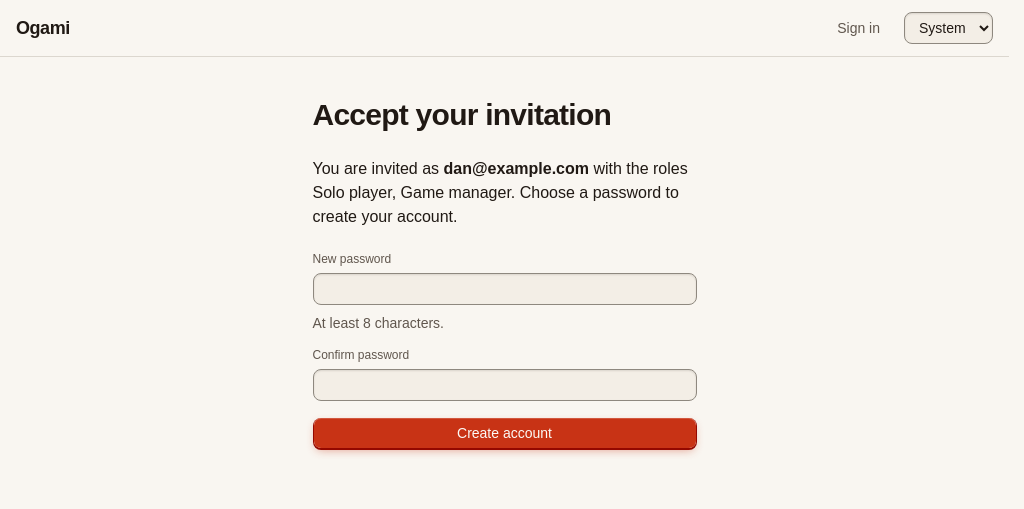
Test case: AcceptInvitationPage › shows the API message for a weak password and creates no session
Expected: the heading "Accept your invitation" is shown, [312,98,611,131]
Type "short" into the password field labelled "New password".
click(504, 289); type("short")  # box [312,273,696,305]
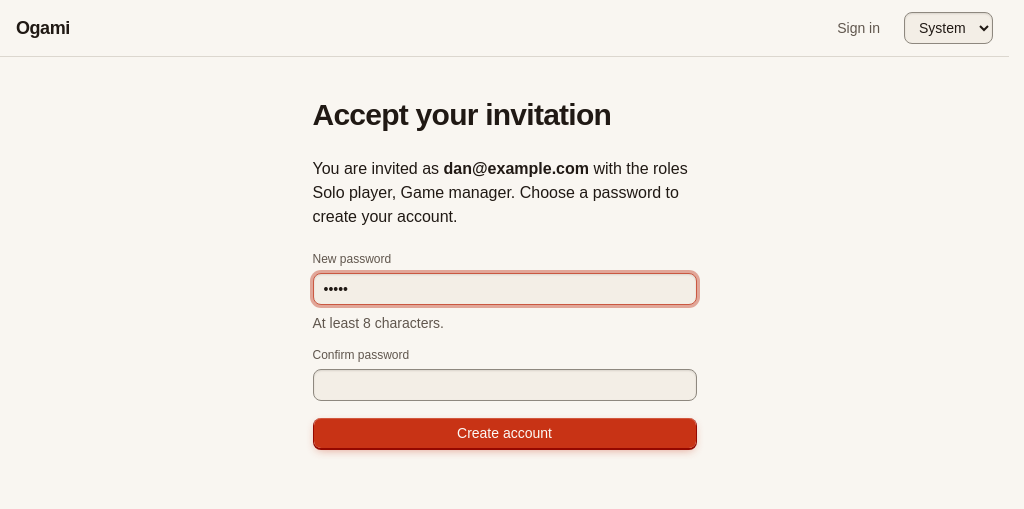
Type "short" into the password field labelled "Confirm password".
click(504, 385); type("short")  # box [312,369,696,401]
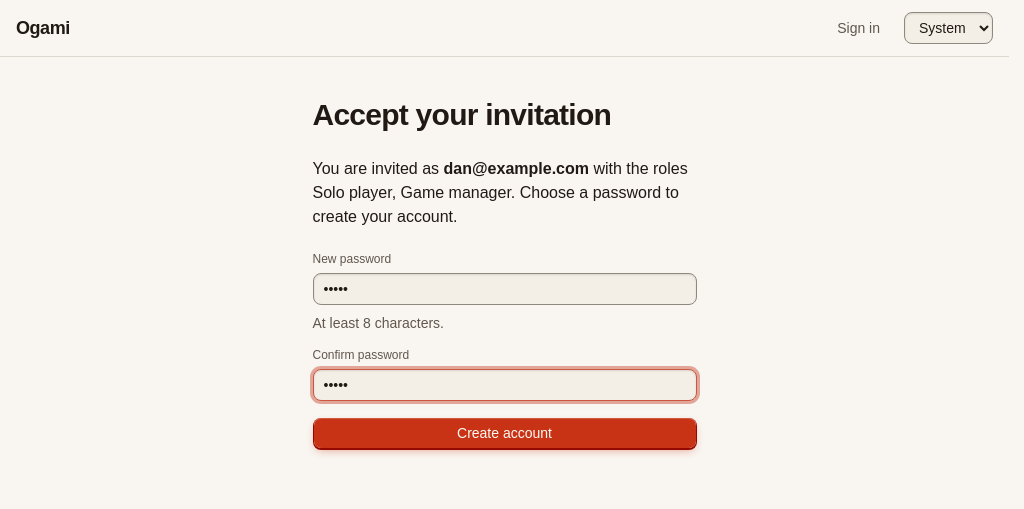
Click the button "Create account".
click(504, 433)  # box [312,417,696,449]
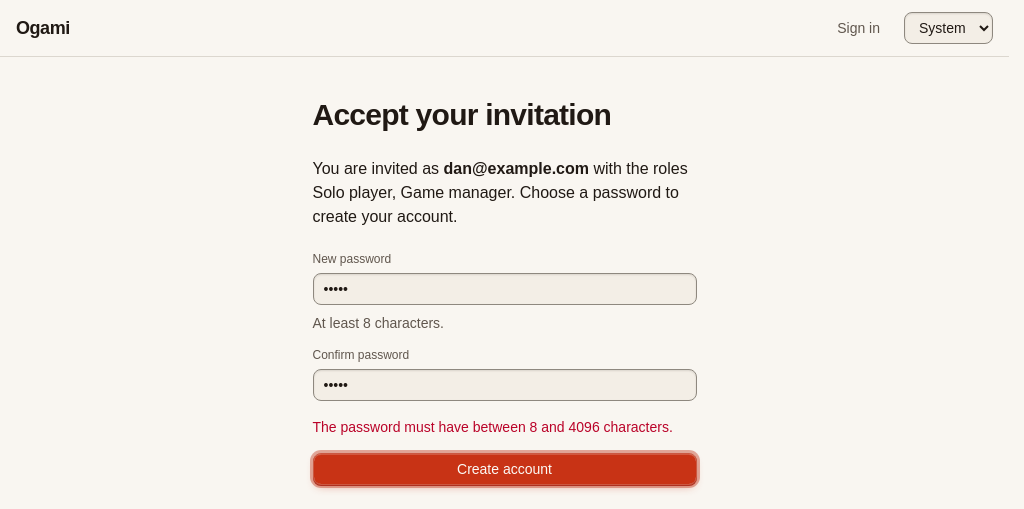
Result: the message shows "between 8 and 4096 characters" at [312,419,673,435]
